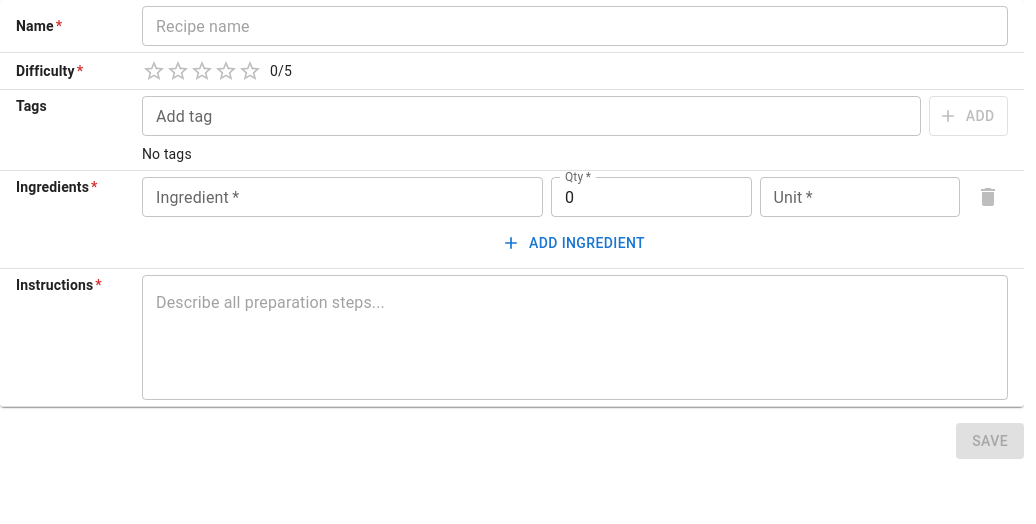
RecipeForm › ingredient management › removes an ingredient row when remove is clicked
Click the button "Add ingredient" at [575, 243], box 142,225 -> 1008,262
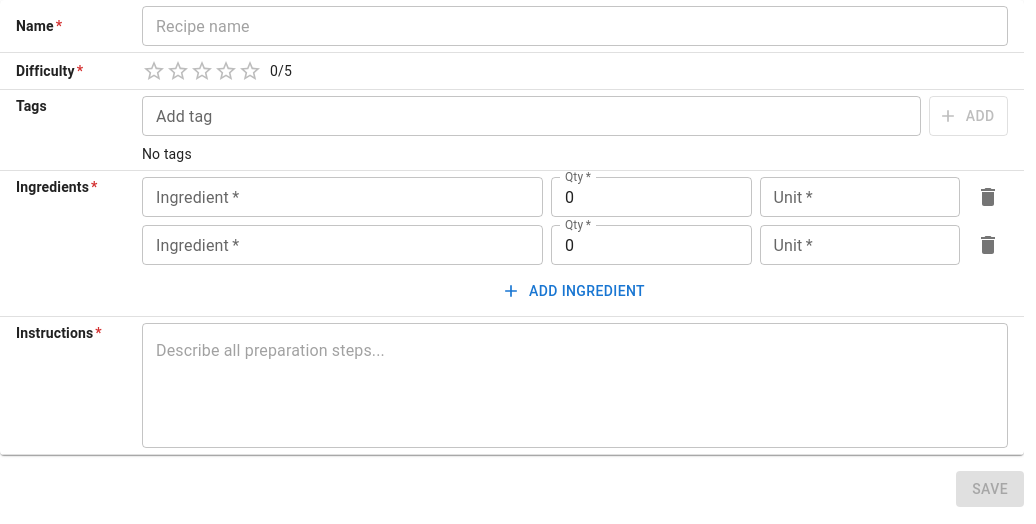
Expected: the number of buttons named "remove ingredient" is 2
Click the 1st button named "remove ingredient" at [988, 197], box 968,177 -> 1008,217
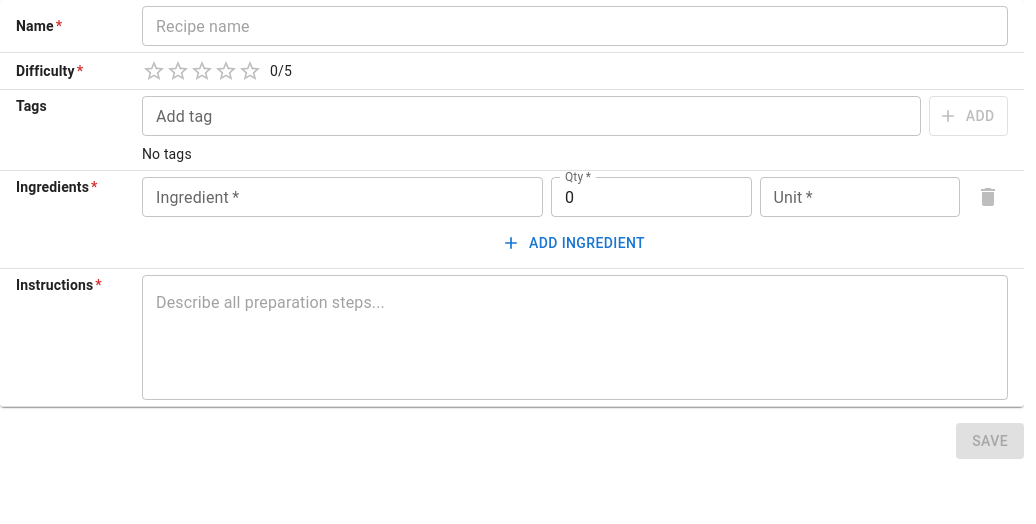
Expected: the number of buttons named "remove ingredient" is 1, 968,177 -> 1008,217
